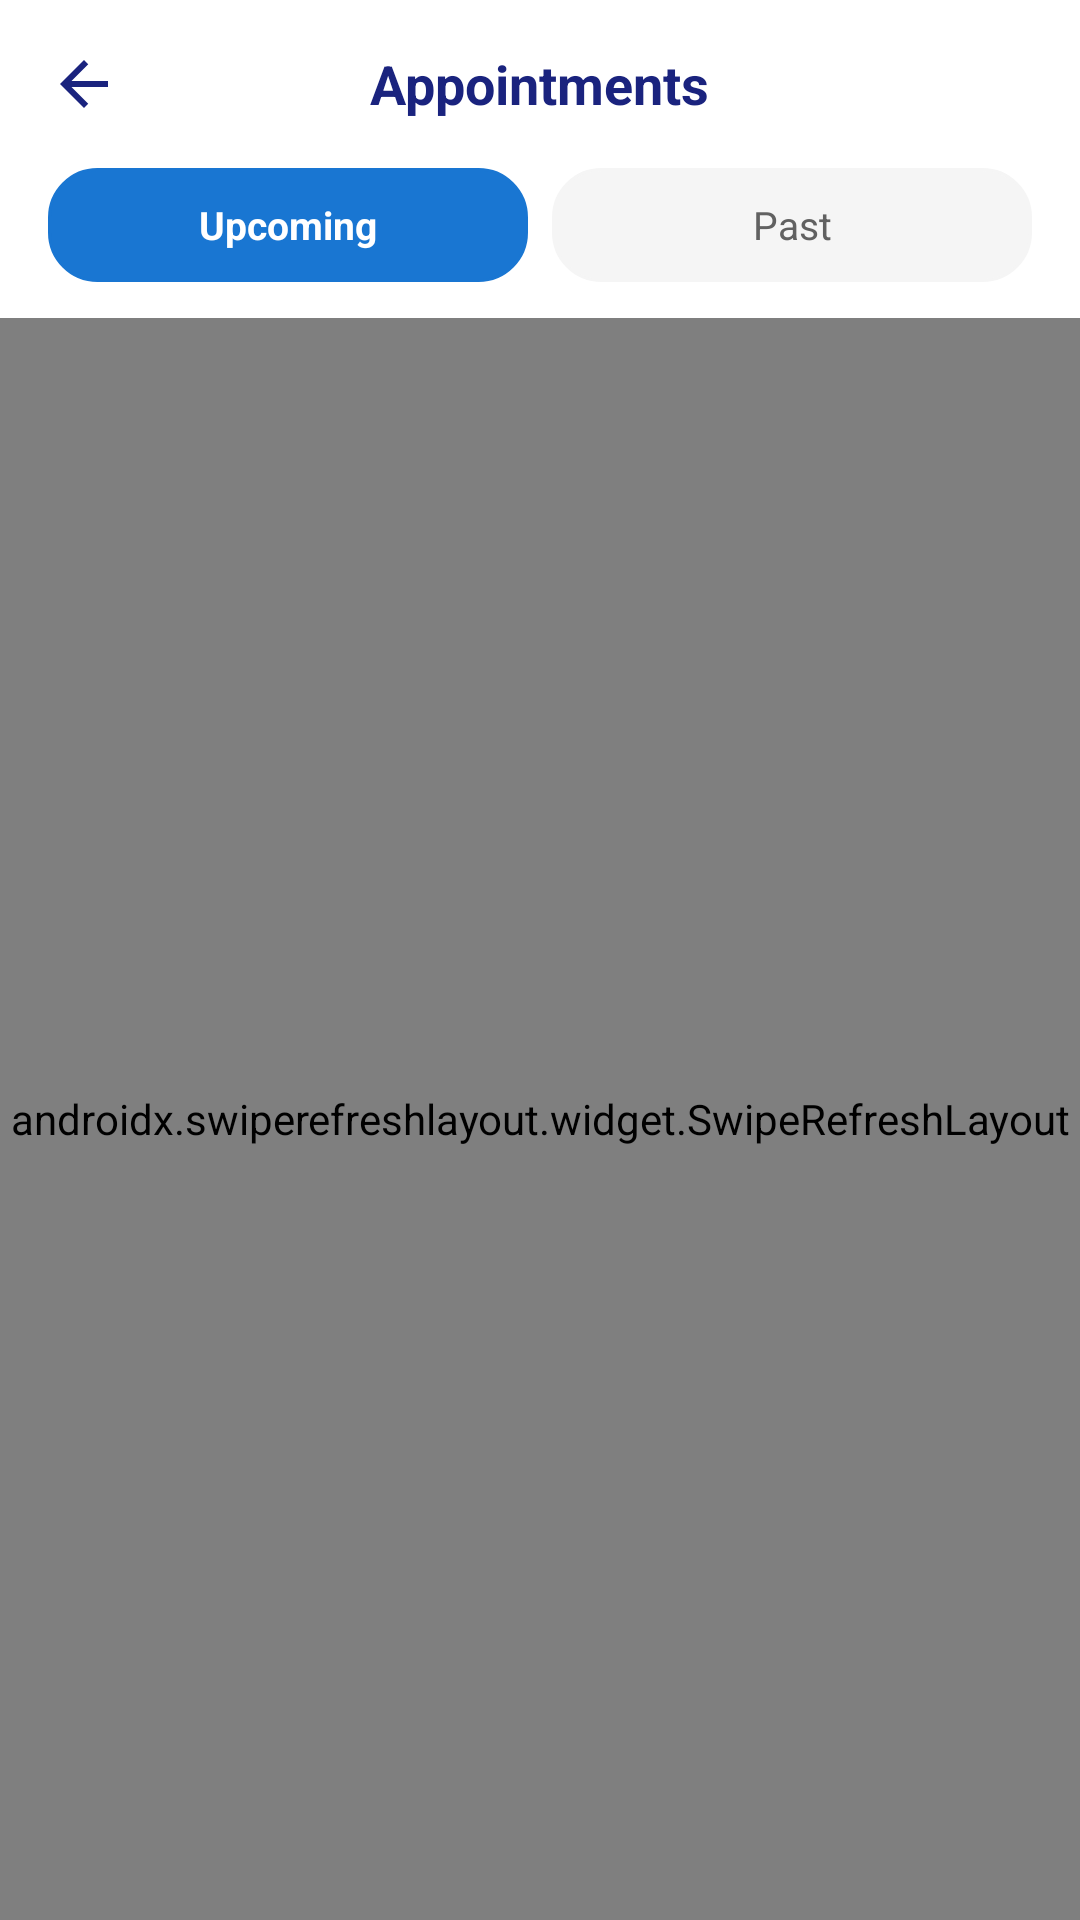

Named icons in this screenshot (1080x1920) and their centers, (x,y):
back arrow: (84,84)
